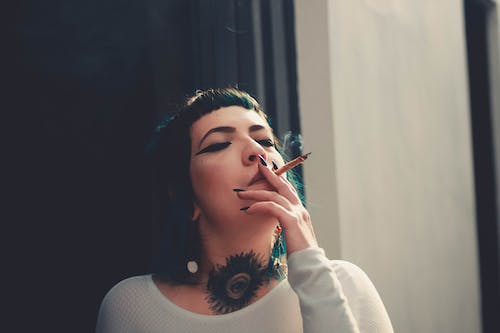cigarette: (274, 150, 312, 176)
